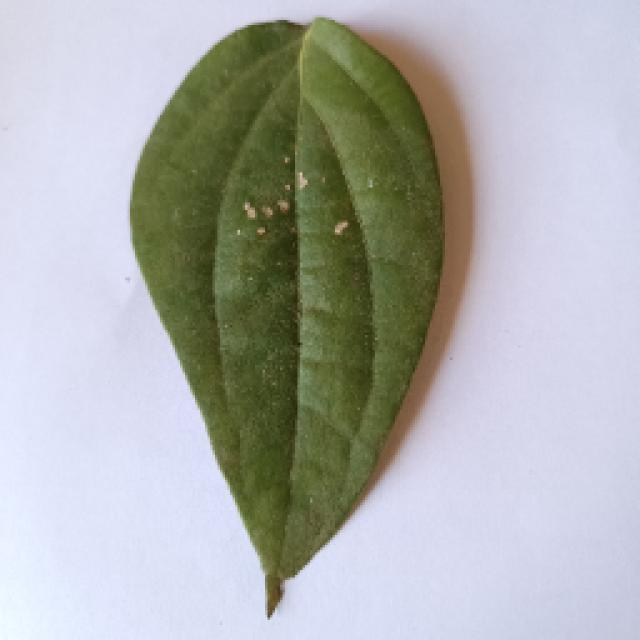pollu-disease: (122, 20, 442, 612)
